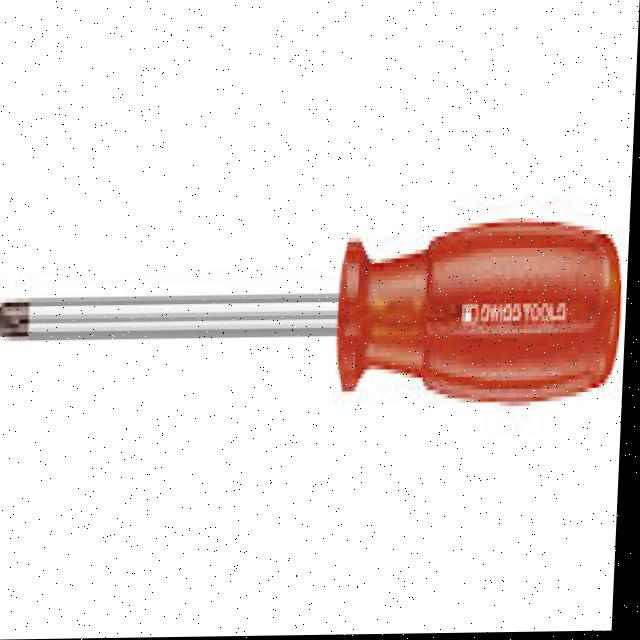Screwdriver: (0, 224, 622, 401)
